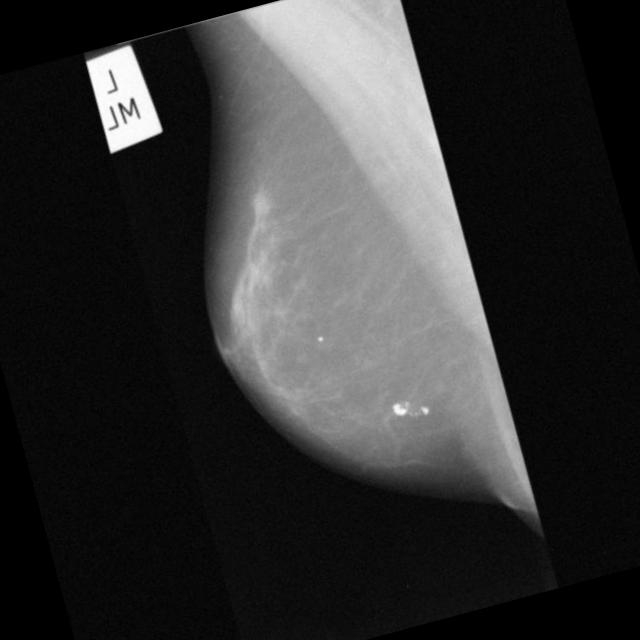ASYM: (243, 186, 278, 221)
